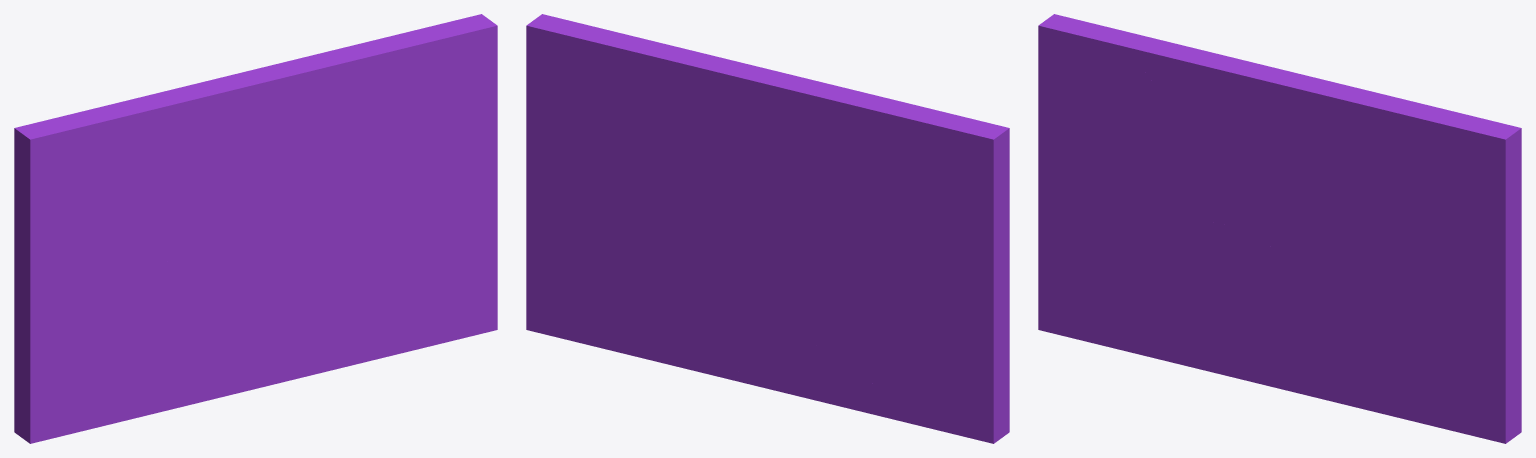
Rendered from Barrier_67_chunks.fbx.
The picture shows the model from 3 angles, left to right: view 1: azimuth 30°, elevation 25°; view 2: azimuth 150°, elevation 25°; view 3: azimuth 330°, elevation 25°; orthographic projection.
Parts seen in each view (by area): view 1: Barrier_67_0, Barrier_67_6, Barrier_67_2, Barrier_67_9, Barrier_67_4, Barrier_67_5, Barrier_67_8, Barrier_67_3, Barrier_67_7, Barrier_67_1; view 2: Barrier_67_1, Barrier_67_6, Barrier_67_2, Barrier_67_3, Barrier_67_9, Barrier_67_7, Barrier_67_4, Barrier_67_0; view 3: Barrier_67_0, Barrier_67_6, Barrier_67_2, Barrier_67_9, Barrier_67_4, Barrier_67_5, Barrier_67_8, Barrier_67_1, Barrier_67_3, Barrier_67_7.
Boxes of the visible parts, bbox=[...] form: Barrier_67_0: bbox=[253, 24, 497, 360]; Barrier_67_6: bbox=[14, 103, 183, 300]; Barrier_67_2: bbox=[14, 260, 189, 443]; Barrier_67_9: bbox=[116, 50, 352, 174]; Barrier_67_4: bbox=[98, 332, 350, 427]; Barrier_67_5: bbox=[173, 238, 298, 332]; Barrier_67_8: bbox=[150, 162, 271, 266]; Barrier_67_3: bbox=[249, 286, 369, 365]; Barrier_67_7: bbox=[239, 108, 324, 202]; Barrier_67_1: bbox=[333, 14, 494, 54]; Barrier_67_1: bbox=[526, 15, 768, 363]; Barrier_67_6: bbox=[832, 106, 1009, 300]; Barrier_67_2: bbox=[824, 254, 1009, 443]; Barrier_67_3: bbox=[663, 237, 830, 377]; Barrier_67_9: bbox=[675, 50, 920, 166]; Barrier_67_7: bbox=[682, 74, 838, 253]; Barrier_67_4: bbox=[721, 341, 910, 423]; Barrier_67_0: bbox=[540, 14, 688, 52]; Barrier_67_0: bbox=[1261, 101, 1507, 443]; Barrier_67_6: bbox=[1038, 14, 1191, 210]; Barrier_67_2: bbox=[1038, 186, 1197, 346]; Barrier_67_9: bbox=[1126, 38, 1372, 149]; Barrier_67_4: bbox=[1106, 297, 1358, 407]; Barrier_67_5: bbox=[1181, 216, 1306, 324]; Barrier_67_8: bbox=[1158, 136, 1280, 232]; Barrier_67_1: bbox=[1372, 91, 1521, 443]; Barrier_67_3: bbox=[1258, 303, 1377, 412]; Barrier_67_7: bbox=[1247, 138, 1332, 206].
Bounding box in the file's own units: 462 × 288 × 27.2.
